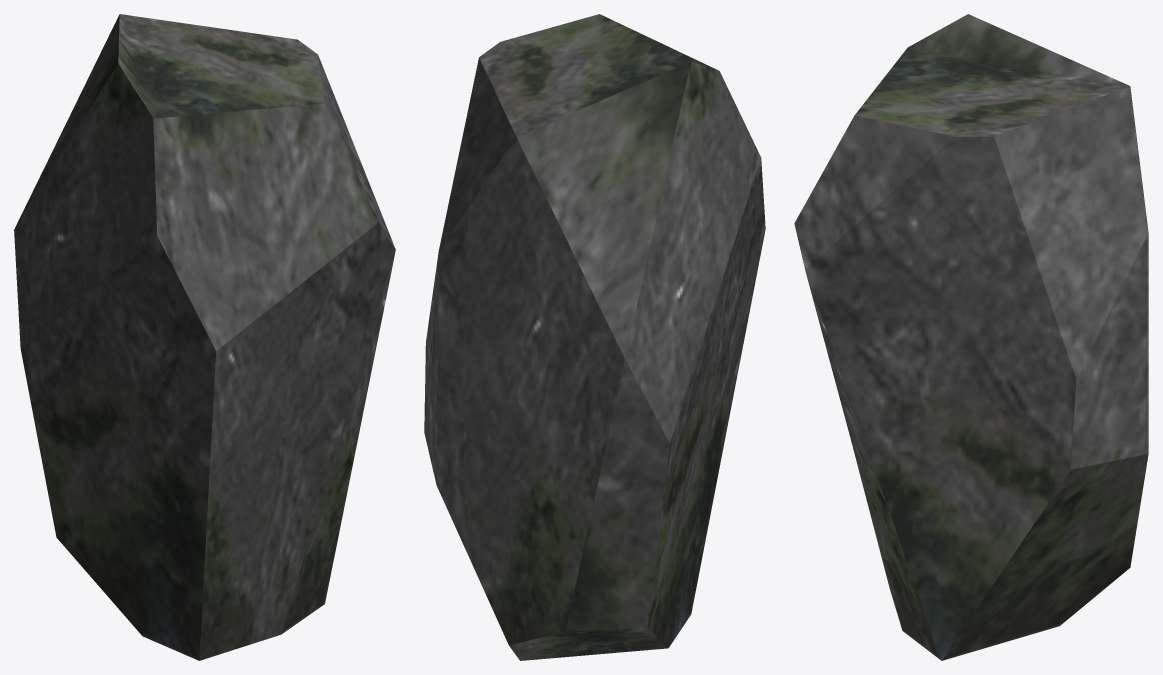
The model's file is big rock.obj.
The picture shows the model from 3 angles, left to right: view 1: azimuth 30°, elevation 25°; view 2: azimuth 150°, elevation 25°; view 3: azimuth 270°, elevation 25°; orthographic projection. The views are drawn at different scales.
Visible parts, largest first — view 1: big_rock; view 2: big_rock; view 3: big_rock.
Boxes of the visible parts, bbox=[...] form: big_rock: bbox=[14, 14, 395, 660]; big_rock: bbox=[424, 14, 765, 660]; big_rock: bbox=[794, 14, 1148, 660].
Bounding box in the file's own units: 1.69 × 3.8 × 2.19.
1 material, 1 textured.
